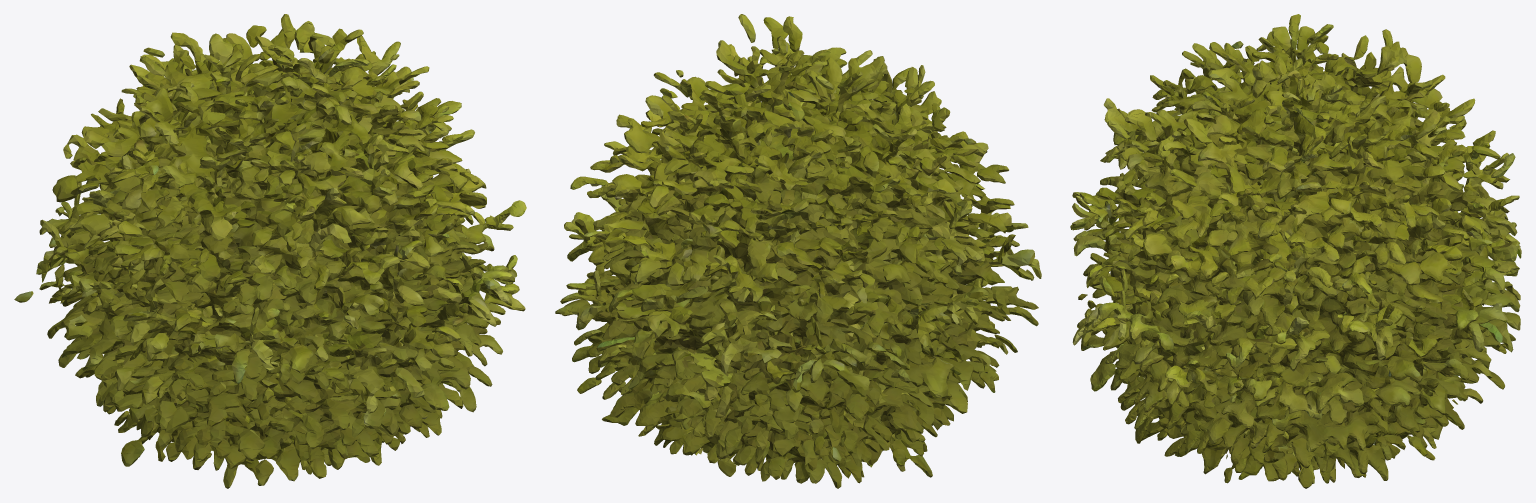
File: prop-bush_large.glb
3 renders of one model, left to right at view 1: azimuth 30°, elevation 25°; view 2: azimuth 150°, elevation 25°; view 3: azimuth 270°, elevation 25°, orthographic. The views are drawn at different scales.
Parts seen in each view (by area): view 1: geometry_0; view 2: geometry_0; view 3: geometry_0.
Boxes of the visible parts, left/top/right/bottom form: geometry_0: left=14, top=14, right=526, bottom=488; geometry_0: left=555, top=14, right=1041, bottom=488; geometry_0: left=1070, top=14, right=1521, bottom=488.
Bounding box in the file's own units: 2.02 × 2 × 2.
Materials: 1 (1 with a texture image).
